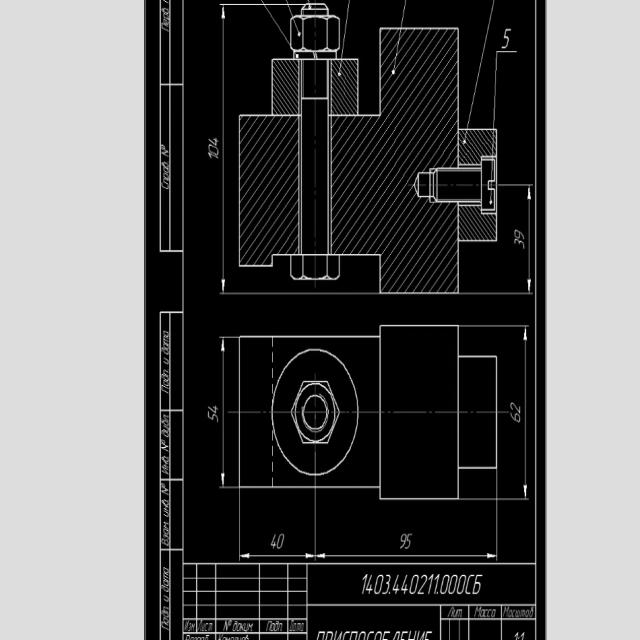marking_line: (314, 490, 499, 562), (219, 1, 239, 295), (237, 489, 318, 561), (499, 324, 530, 501), (499, 182, 534, 297), (460, 244, 533, 297), (218, 336, 239, 489), (212, 279, 380, 296), (218, 3, 291, 21)
numeric: (501, 25, 512, 51), (373, 574, 384, 595), (456, 574, 467, 595), (382, 573, 392, 596), (418, 573, 428, 596), (409, 574, 419, 595), (448, 574, 458, 594), (431, 573, 440, 595), (508, 411, 522, 425), (440, 575, 450, 593), (401, 575, 410, 594), (513, 239, 528, 250), (392, 575, 400, 595), (427, 574, 435, 594), (398, 533, 407, 550), (515, 229, 527, 241), (405, 534, 413, 551), (270, 532, 277, 551), (509, 401, 521, 412), (362, 575, 368, 596), (366, 574, 372, 595), (207, 412, 219, 422), (277, 534, 284, 550), (208, 136, 219, 146), (209, 144, 219, 155), (208, 153, 219, 162), (208, 406, 219, 414)
